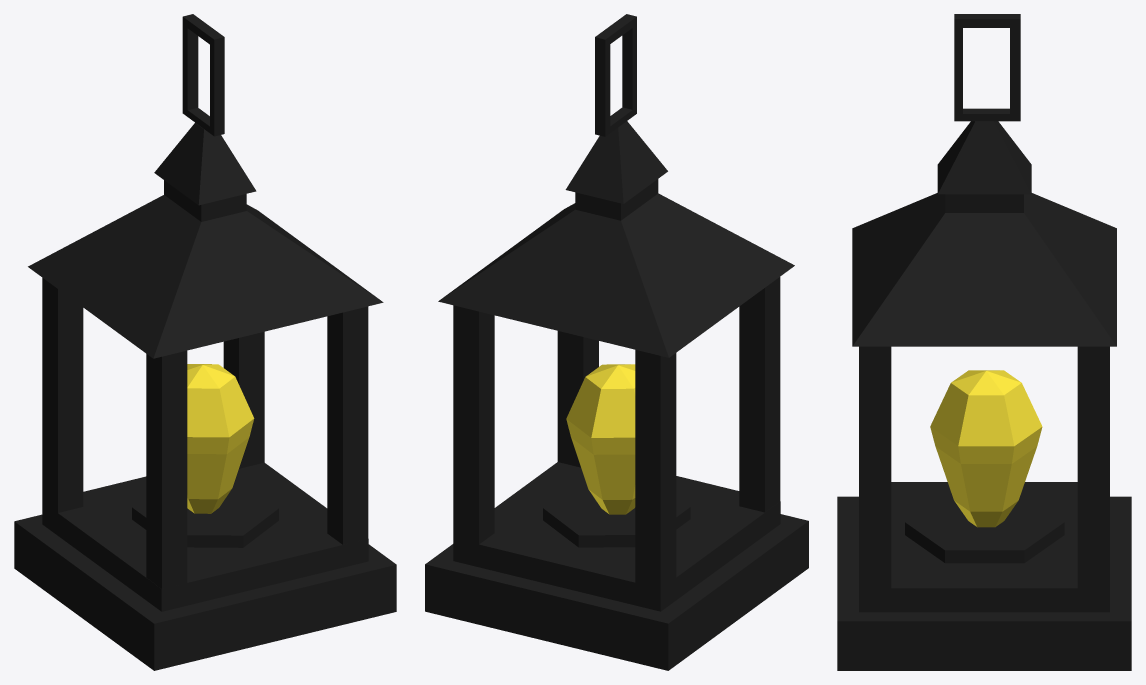
File: Lamparina.fbx
The picture shows the model from 3 angles, left to right: view 1: azimuth 30°, elevation 25°; view 2: azimuth 150°, elevation 25°; view 3: azimuth 270°, elevation 25°; orthographic projection. The views are drawn at different scales.
Visible parts, largest first — view 1: Plano, Cubo, Esfera UV, Cilindro; view 2: Plano, Cubo, Esfera UV, Cilindro; view 3: Plano, Cubo, Esfera UV, Cilindro.
Boxes of the visible parts, x1,y1,x2,y2 form: Plano: (14, 278, 396, 670); Cubo: (28, 14, 383, 358); Esfera UV: (187, 364, 254, 513); Cilindro: (132, 480, 278, 547); Plano: (425, 277, 808, 670); Cubo: (438, 14, 794, 357); Esfera UV: (566, 364, 635, 514); Cilindro: (543, 480, 690, 547); Plano: (837, 346, 1131, 670); Cubo: (852, 14, 1116, 346); Esfera UV: (930, 370, 1042, 527); Cilindro: (905, 494, 1064, 563).
Bounding box in the file's own units: 37.9 × 84 × 37.9.
